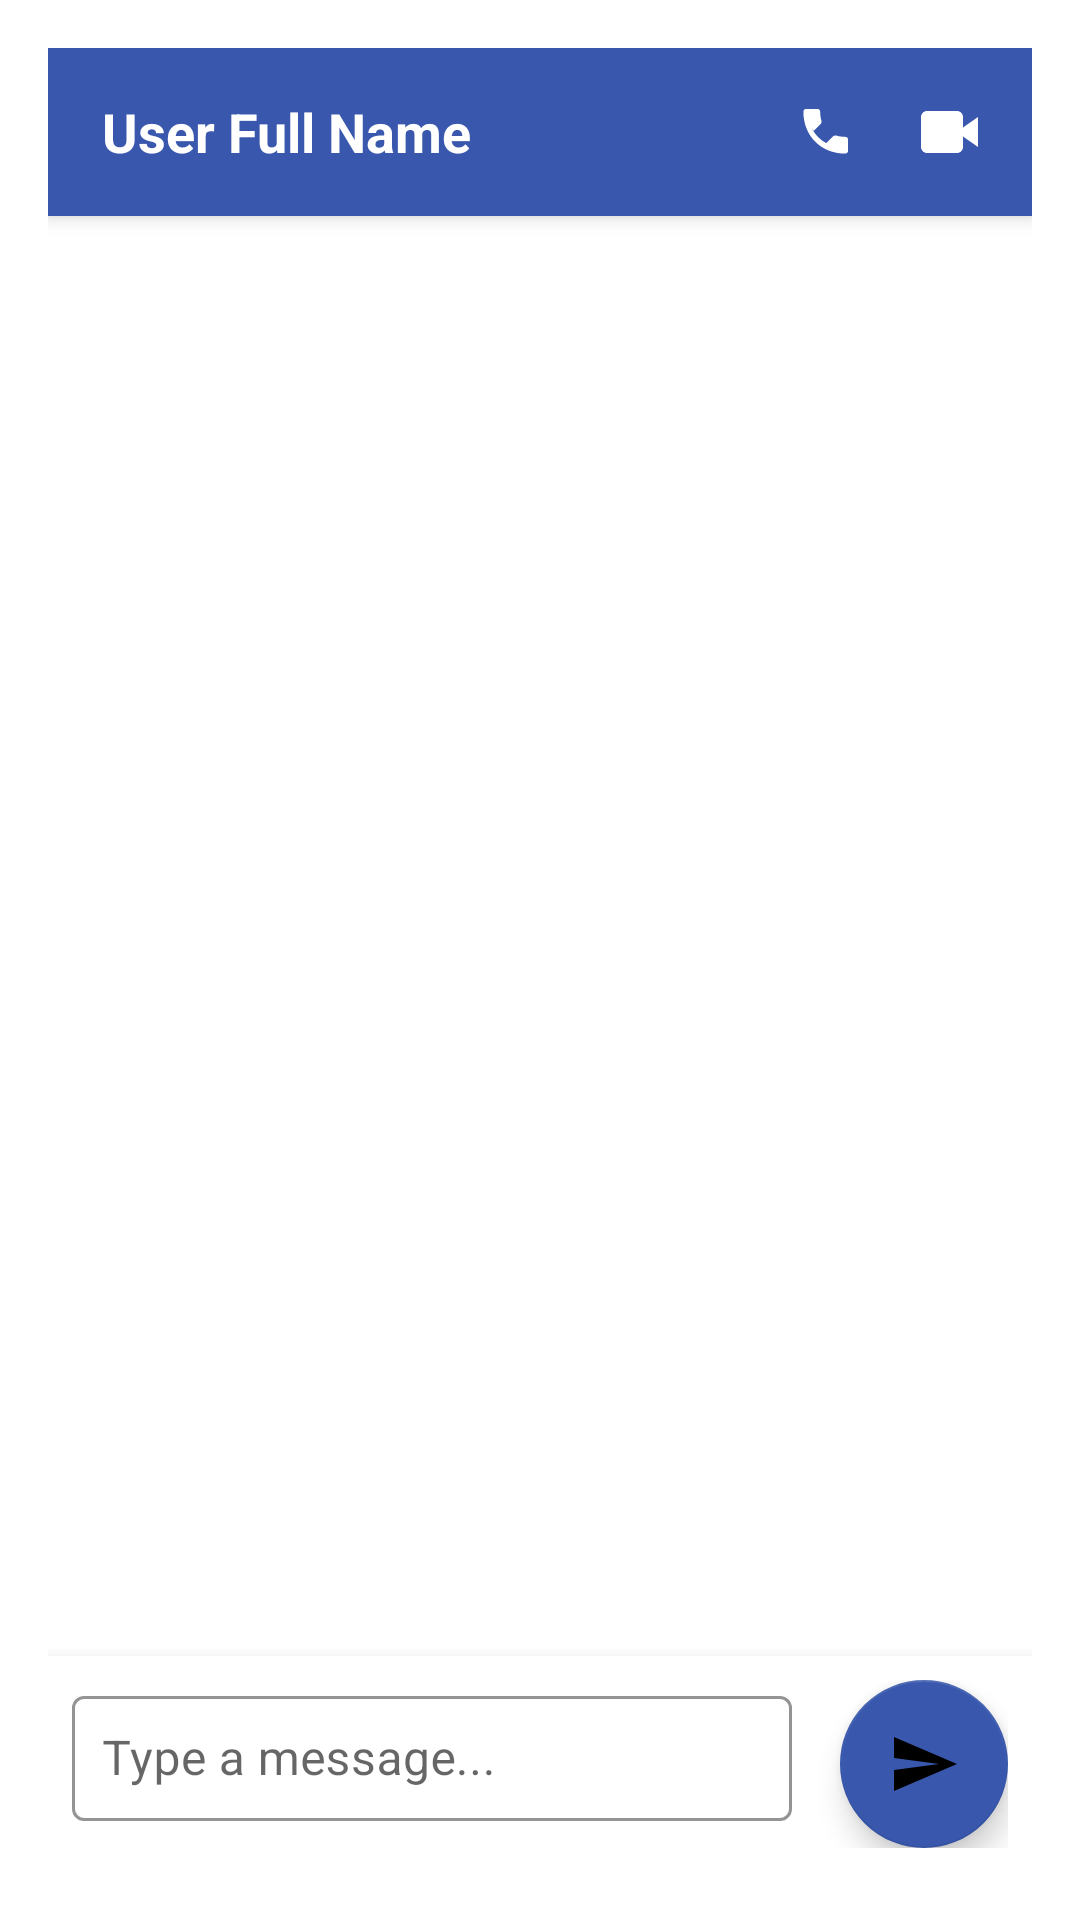

Named icons in this screenshot (1080w x 1920h) and their bounding boxes, bbox(x1, y1, x2, y2):
Phone Call: bbox(803, 109, 848, 154)
Send Message: bbox(840, 1680, 1008, 1848)
Video Call: bbox(921, 111, 978, 153)
